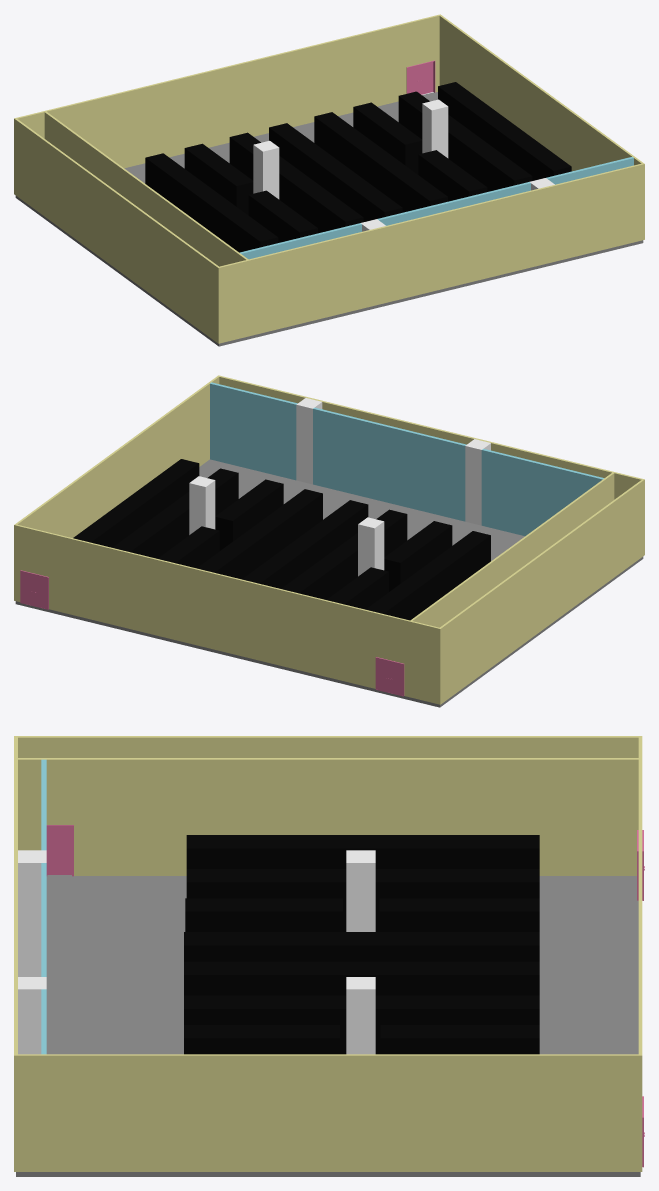
The model's file is DataCenter_AirCooling.glb.
The picture shows the model from 3 angles, top to bottom: view 1: azimuth 30°, elevation 25°; view 2: azimuth 150°, elevation 25°; view 3: azimuth 270°, elevation 25°; orthographic projection. The views are drawn at different scales.
Parts seen in each view (by area): view 1: 標準壁 PC - 150 mm [140621], 標準壁 内壁 - 135 mm 間仕切り(2時間) [141911], 標準壁 内壁 - 135 mm 間仕切り(2時間) [143327], 標準壁 内壁 - 135 mm 間仕切り(2時間) [142879], 標準壁 内壁 - 135 mm 間仕切り(2時間) [143040], ラック6 ラック [207866], ラック1 ラック [206988], ラック5 ラック [207670], ラック11 ラック [208329], ラック4 ラック [207484], ラック10 ラック [208180], 床 現場打ちコンクリート 225 mm [202686] (+11 smaller); view 2: 標準壁 内壁 - 135 mm 間仕切り(2時間) [141911], 標準壁 内壁 - 135 mm 間仕切り(2時間) [143327], 標準壁 一般 - 200 mm [143987], 標準壁 内壁 - 135 mm 間仕切り(2時間) [142879], 標準壁 一般 - 200 mm [144151], 標準壁 一般 - 200 mm [144311], 床 現場打ちコンクリート 225 mm [202686], 標準壁 内壁 - 135 mm 間仕切り(2時間) [143040], ラック6 ラック [207866], ラック1 ラック [206988], ラック11 ラック [208329], 標準壁 PC - 150 mm [140621] (+14 smaller); view 3: 標準壁 内壁 - 135 mm 間仕切り(2時間) [142879], 標準壁 内壁 - 135 mm 間仕切り(2時間) [143040], 床 現場打ちコンクリート 225 mm [202686], 標準壁 内壁 - 135 mm 間仕切り(2時間) [143327], ラック5 ラック [207670], ラック ラック [204903], ラック4 ラック [207484], ラック6 ラック [207866], ラック1 ラック [206988], ラック3 ラック [207216], ラック2 ラック [207175], ラック8 ラック [208012] (+9 smaller).
Part boxes in pixels (x1,y1,x2,y2): 標準壁 PC - 150 mm [140621]: [217, 163, 644, 343]; 標準壁 内壁 - 135 mm 間仕切り(2時間) [141911]: [16, 15, 439, 168]; 標準壁 内壁 - 135 mm 間仕切り(2時間) [143327]: [14, 118, 218, 342]; 標準壁 内壁 - 135 mm 間仕切り(2時間) [142879]: [438, 14, 642, 171]; 標準壁 内壁 - 135 mm 間仕切り(2時間) [143040]: [44, 111, 248, 266]; ラック6 ラック [207866]: [314, 112, 447, 212]; ラック1 ラック [206988]: [145, 153, 278, 252]; ラック5 ラック [207670]: [269, 123, 402, 221]; ラック11 ラック [208329]: [438, 82, 571, 180]; ラック4 ラック [207484]: [229, 132, 363, 233]; ラック10 ラック [208180]: [398, 91, 532, 191]; 床 現場打ちコンクリート 225 mm [202686]: [124, 92, 643, 339]; 標準壁 内壁 - 135 mm 間仕切り(2時間) [141911]: [16, 524, 438, 703]; 標準壁 内壁 - 135 mm 間仕切り(2時間) [143327]: [438, 480, 643, 704]; 標準壁 一般 - 200 mm [143987]: [313, 407, 466, 521]; 標準壁 内壁 - 135 mm 間仕切り(2時間) [142879]: [14, 376, 219, 600]; 標準壁 一般 - 200 mm [144151]: [210, 382, 297, 480]; 標準壁 一般 - 200 mm [144311]: [481, 448, 604, 536]; 床 現場打ちコンクリート 225 mm [202686]: [15, 459, 524, 700]; 標準壁 内壁 - 135 mm 間仕切り(2時間) [143040]: [410, 472, 614, 627]; ラック6 ラック [207866]: [197, 489, 322, 579]; ラック1 ラック [206988]: [365, 531, 490, 620]; ラック11 ラック [208329]: [73, 459, 199, 547]; 標準壁 PC - 150 mm [140621]: [217, 375, 644, 555]; 標準壁 内壁 - 135 mm 間仕切り(2時間) [142879]: [18, 1054, 642, 1171]; 標準壁 内壁 - 135 mm 間仕切り(2時間) [143040]: [18, 758, 638, 875]; 床 現場打ちコンクリート 225 mm [202686]: [16, 875, 640, 1176]; 標準壁 内壁 - 135 mm 間仕切り(2時間) [143327]: [18, 736, 642, 757]; ラック5 ラック [207670]: [184, 961, 539, 995]; ラック ラック [204903]: [186, 835, 539, 868]; ラック4 ラック [207484]: [184, 932, 539, 961]; ラック6 ラック [207866]: [184, 995, 539, 1054]; ラック1 ラック [206988]: [186, 869, 539, 931]; ラック3 ラック [207216]: [379, 898, 539, 931]; ラック2 ラック [207175]: [185, 898, 342, 931]; ラック8 ラック [208012]: [380, 1025, 539, 1054].
Size of the model in its own units: 28.29 by 5.03 by 23.59.
